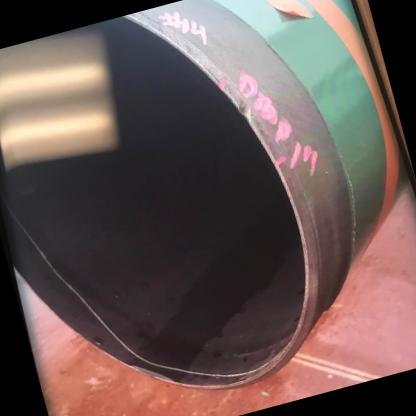Bevel: (227, 90, 260, 130)
